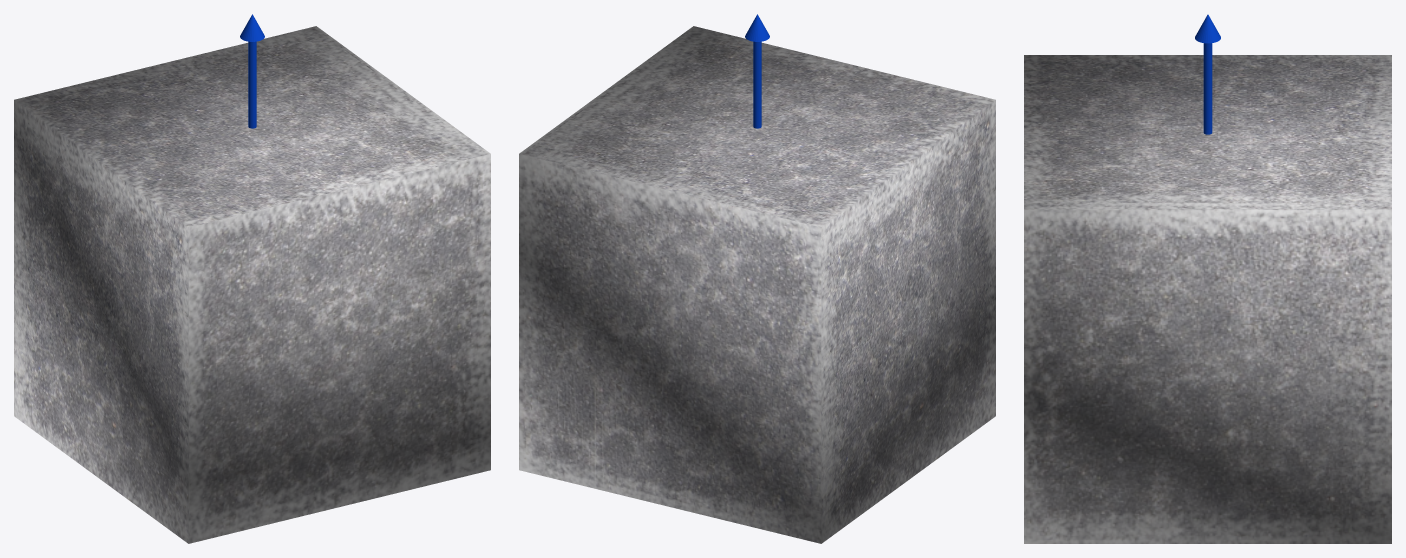
Rendered from normal_map.dae.
3 views of the same model, side by side, from view 1: azimuth 30°, elevation 25°; view 2: azimuth 150°, elevation 25°; view 3: azimuth 270°, elevation 25° (orthographic). The views are drawn at different scales.
Parts seen in each view (by area): view 1: Cube, Cone; view 2: Cube, Cone; view 3: Cube, Cone.
Part boxes in pixels (box(x1,y1,x2,y2)): Cube: box(14, 26, 490, 543); Cone: box(240, 14, 264, 128); Cube: box(519, 26, 995, 543); Cone: box(745, 14, 769, 128); Cube: box(1024, 55, 1391, 543); Cone: box(1195, 14, 1220, 134).
Bounding box in the file's own units: 2 × 2 × 2.71.
2 materials, 1 textured.
